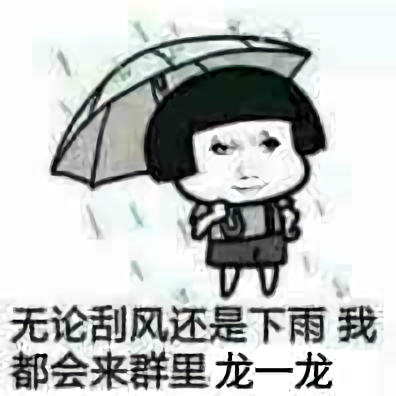dragon: (205, 132, 287, 195)
